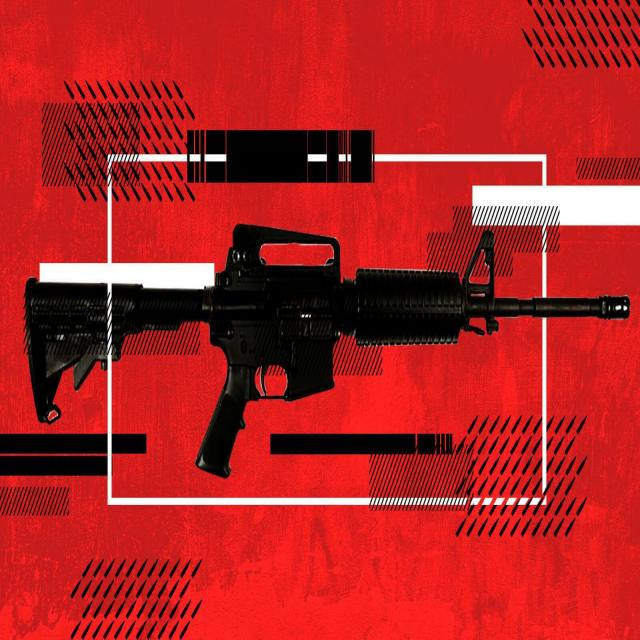Rifle: (24, 224, 632, 479)
